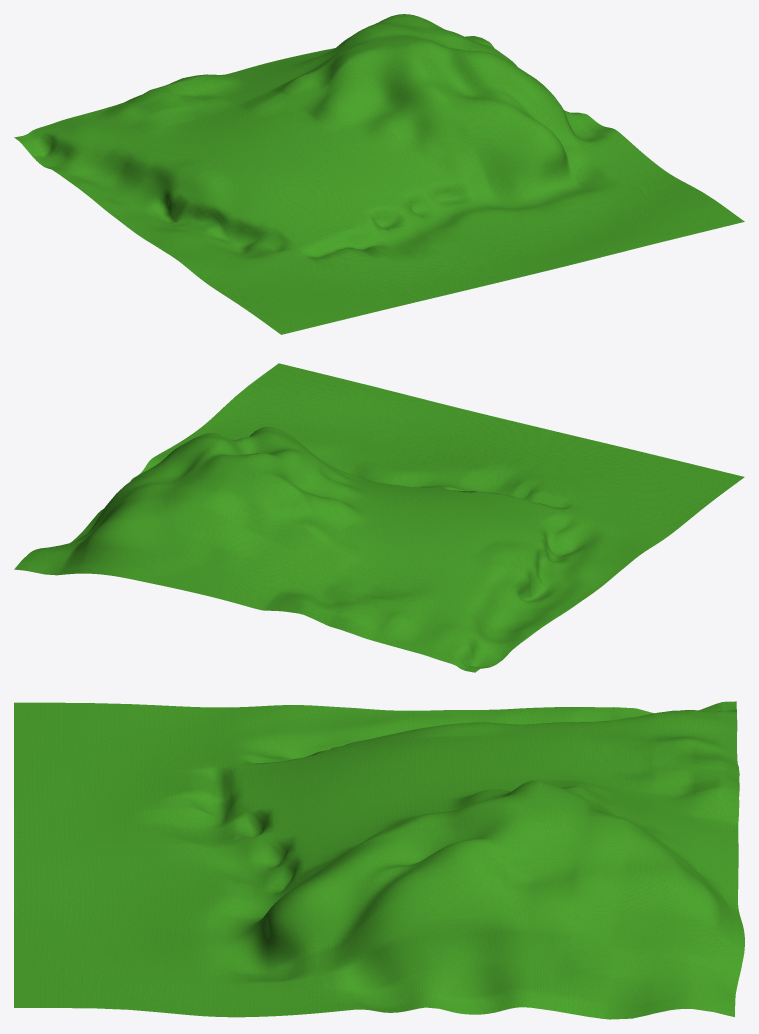
File: world.fbx
3 renders of one model, top to bottom at view 1: azimuth 30°, elevation 25°; view 2: azimuth 150°, elevation 25°; view 3: azimuth 270°, elevation 25°, orthographic. The views are drawn at different scales.
Visible parts, largest first — view 1: Ground; view 2: Ground; view 3: Ground.
Part boxes in pixels (left/top/right/bottom): Ground: left=14, top=14, right=744, bottom=334; Ground: left=14, top=363, right=744, bottom=672; Ground: left=14, top=701, right=744, bottom=1019.
Bounding box in the file's own units: 117 × 22.5 × 118.
